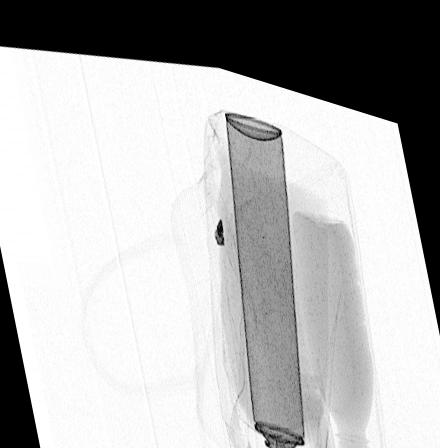Sprayer: (224, 96, 305, 448)
